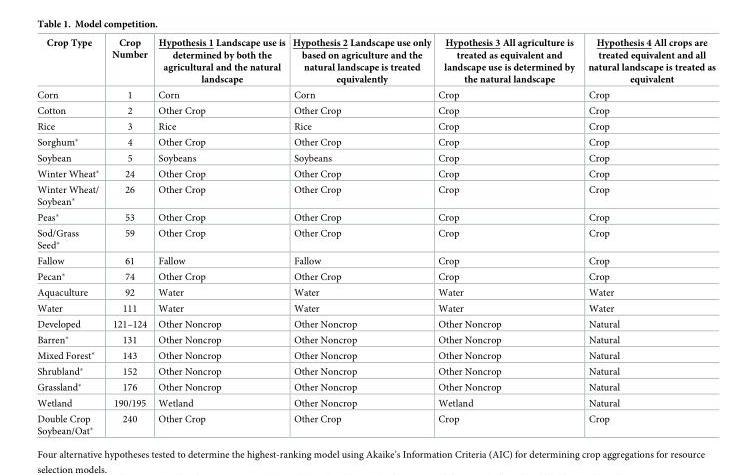table: (36, 37, 715, 436)
table column: (288, 37, 434, 436), (434, 37, 580, 436), (152, 37, 288, 436), (580, 37, 715, 436), (36, 37, 104, 436), (104, 37, 152, 436)
table column header: (36, 37, 715, 86)
table row: (36, 37, 715, 86), (36, 225, 715, 253), (36, 181, 715, 208), (36, 410, 715, 436), (36, 133, 715, 150), (36, 208, 715, 225), (36, 267, 715, 284), (36, 378, 715, 395), (36, 86, 715, 102), (36, 102, 715, 118), (36, 165, 715, 181), (36, 284, 715, 300), (36, 300, 715, 316), (36, 331, 715, 347), (36, 362, 715, 378), (36, 118, 715, 133), (36, 150, 715, 165), (36, 316, 715, 331), (36, 347, 715, 362), (36, 395, 715, 410), (36, 253, 715, 267)
